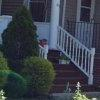stairs: (45, 62, 96, 91)
